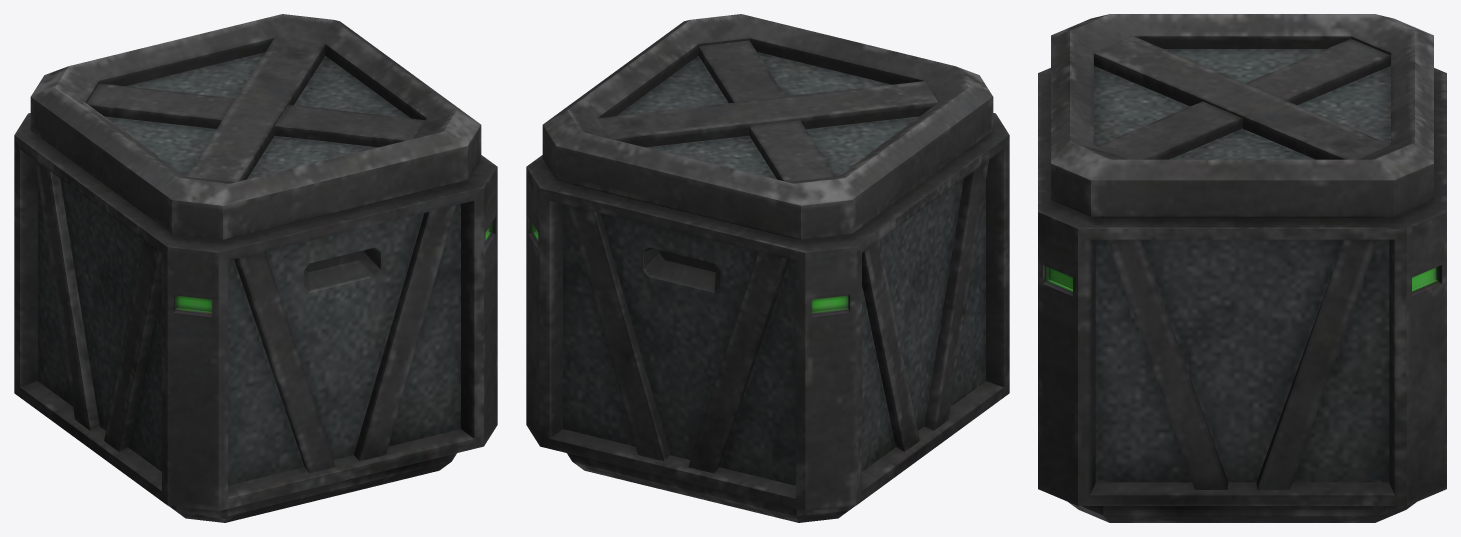
Rendered from Crate_S.FBX.
3 views of the same model, side by side, from view 1: azimuth 30°, elevation 25°; view 2: azimuth 150°, elevation 25°; view 3: azimuth 270°, elevation 25° (orthographic). The views are drawn at different scales.
Parts seen in each view (by area): view 1: Crate_S; view 2: Crate_S; view 3: Crate_S.
Boxes of the visible parts, <box> form: Crate_S: <box>14,14,497,522</box>; Crate_S: <box>526,14,1009,522</box>; Crate_S: <box>1038,14,1446,522</box>.
Bounding box in the file's own units: 65.24 × 64.63 × 65.24.
